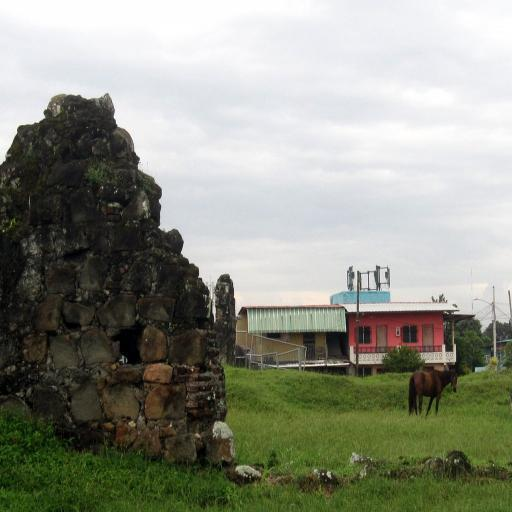horse: (406, 368, 458, 416)
